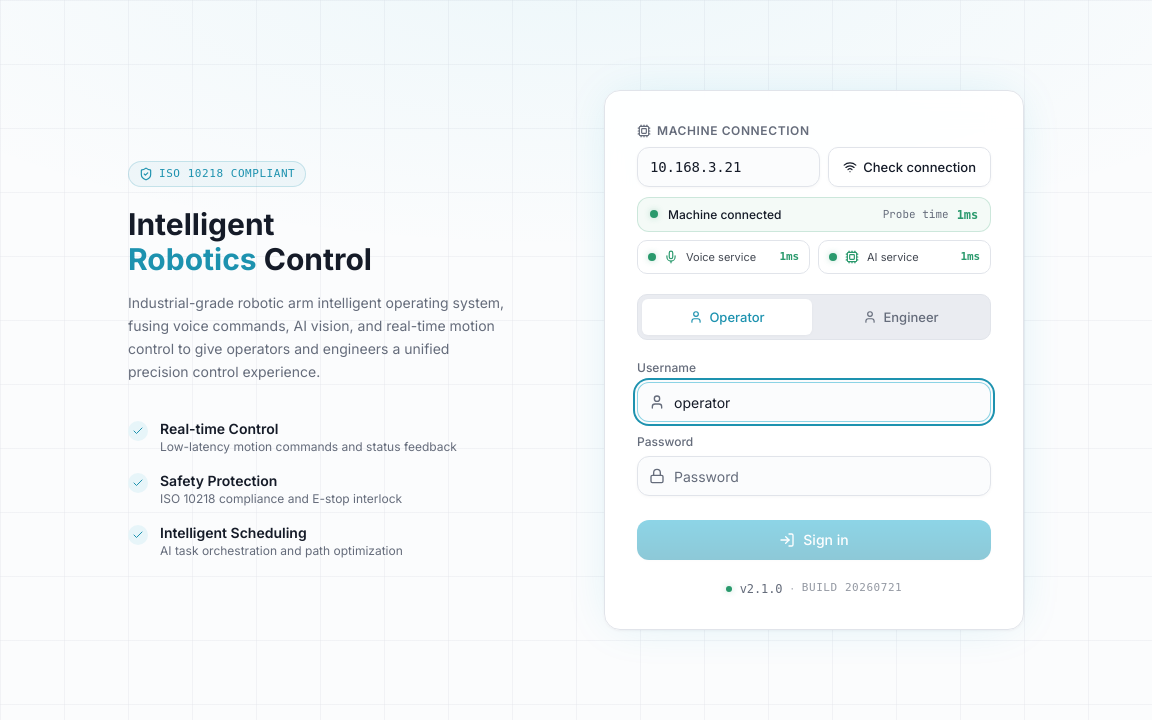
Scenario: App layout › keeps sidebar layout out of the main thread width contract
Replace the text in the field with placeholder "Username" with "engineer" at (814, 402), box [637,382,991,422]
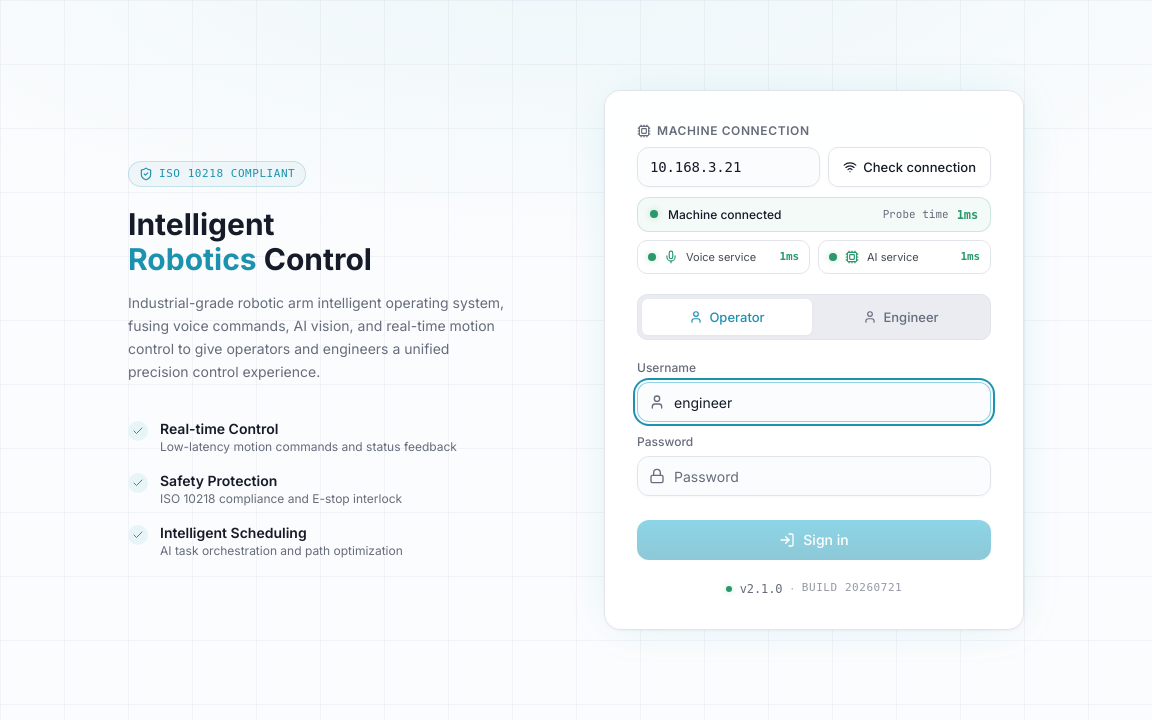
Type "pass" into the password field with placeholder "Password".
click(814, 476); type("pass")  # box [637,456,991,496]
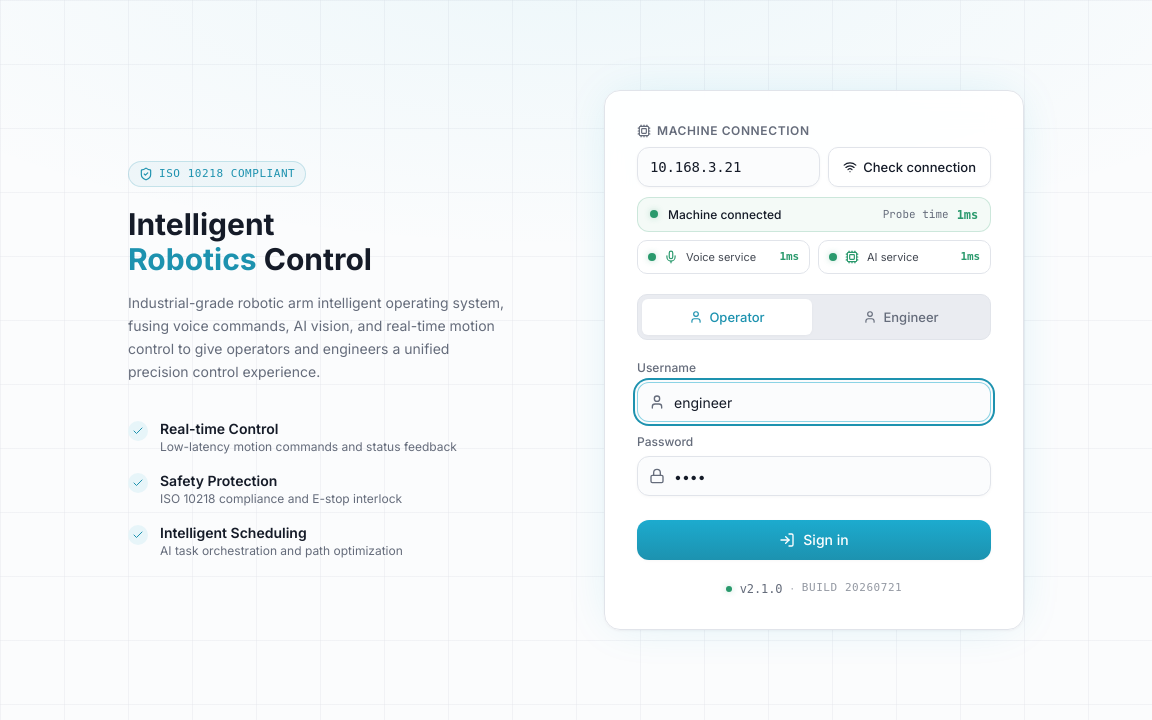
Click the submit button.
click(814, 540)  # box [637,520,991,560]
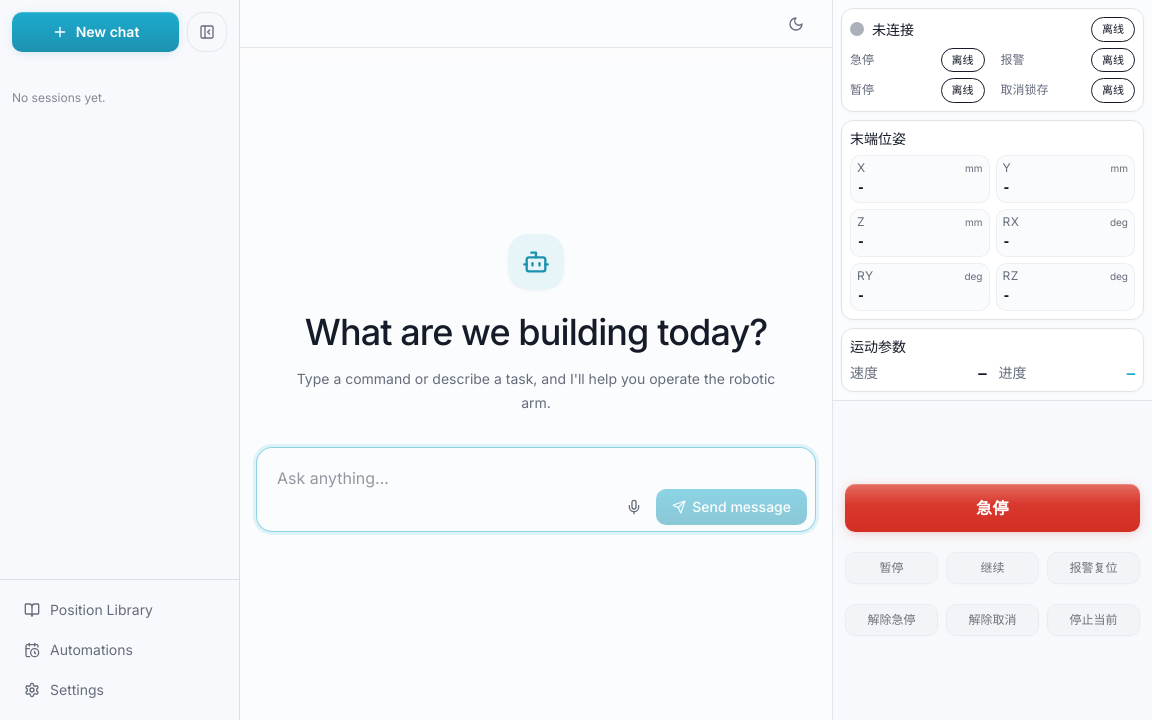
expect the element that starts with "What are we building today?" is shown: met, box [240,0,832,719]
